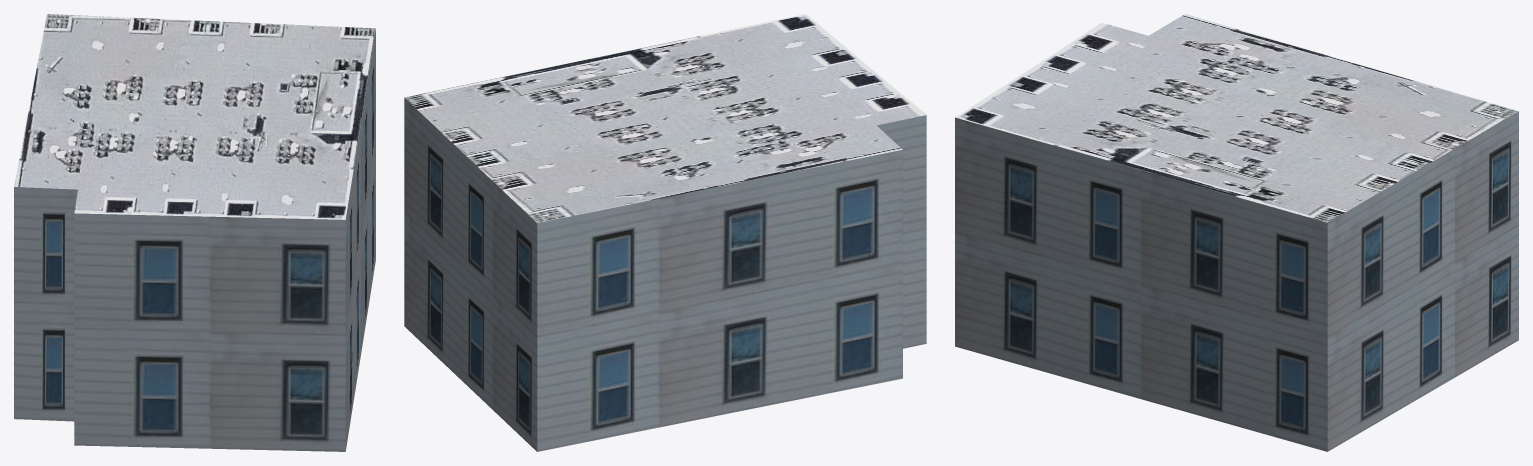
The model's file is ResTex__3863.fbx.
3 renders of one model, left to right at view 1: azimuth 30°, elevation 25°; view 2: azimuth 150°, elevation 25°; view 3: azimuth 270°, elevation 25°, orthographic.
Parts seen in each view (by area): view 1: CityEngineMaterial_18_m, CityEngineMaterial_4_m; view 2: CityEngineMaterial_18_m, CityEngineMaterial_4_m; view 3: CityEngineMaterial_18_m, CityEngineMaterial_4_m.
Part boxes in pixels (box(x1,y1,x2,y2)): CityEngineMaterial_18_m: box(14, 29, 375, 451); CityEngineMaterial_4_m: box(14, 14, 375, 219); CityEngineMaterial_18_m: box(404, 98, 926, 451); CityEngineMaterial_4_m: box(404, 14, 925, 223); CityEngineMaterial_18_m: box(955, 111, 1518, 451); CityEngineMaterial_4_m: box(955, 14, 1518, 222).
Size of the model in its own units: 11.74 by 6 by 13.39.
2 materials, 2 textured.
